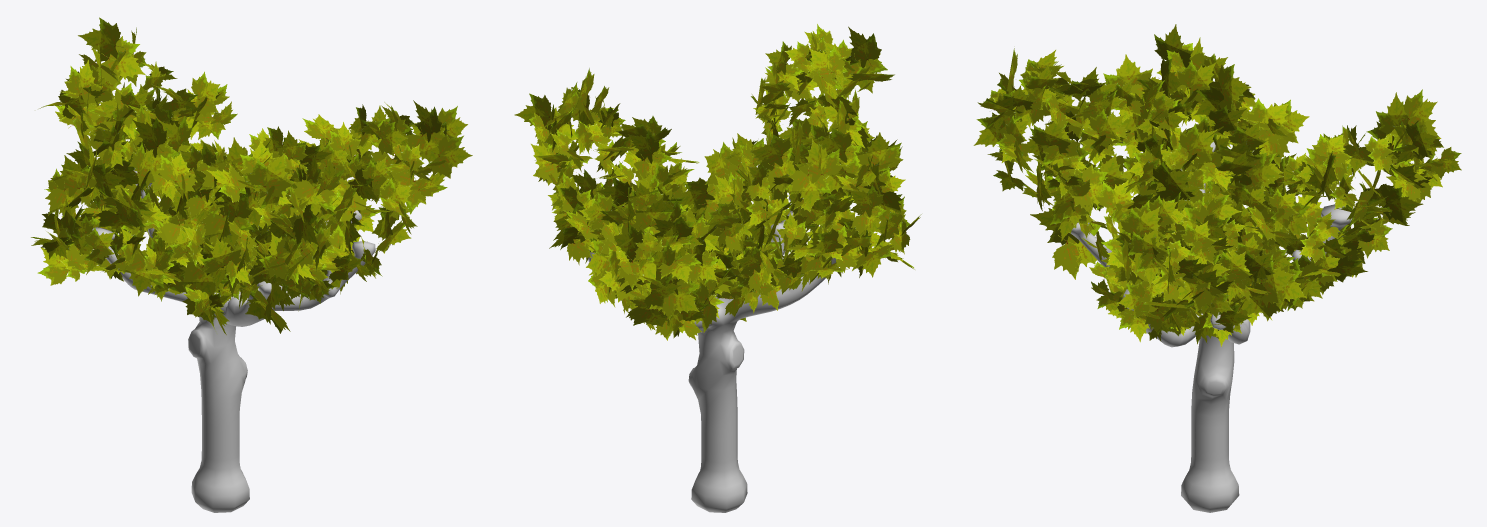
Rendered from PlaneTree.fbx.
3 views of the same model, side by side, from view 1: azimuth 30°, elevation 25°; view 2: azimuth 150°, elevation 25°; view 3: azimuth 270°, elevation 25° (orthographic). The views are drawn at different scales.
Visible parts, largest first — view 1: PlaneTree_LOD0; view 2: PlaneTree_LOD0; view 3: PlaneTree_LOD0.
Boxes of the visible parts, left/top/right/bottom form: PlaneTree_LOD0: left=31, top=17, right=472, bottom=512; PlaneTree_LOD0: left=514, top=24, right=921, bottom=512; PlaneTree_LOD0: left=973, top=24, right=1461, bottom=512.
Size of what is drawn, in the model's own units: 24.34 by 24.26 by 25.22.
